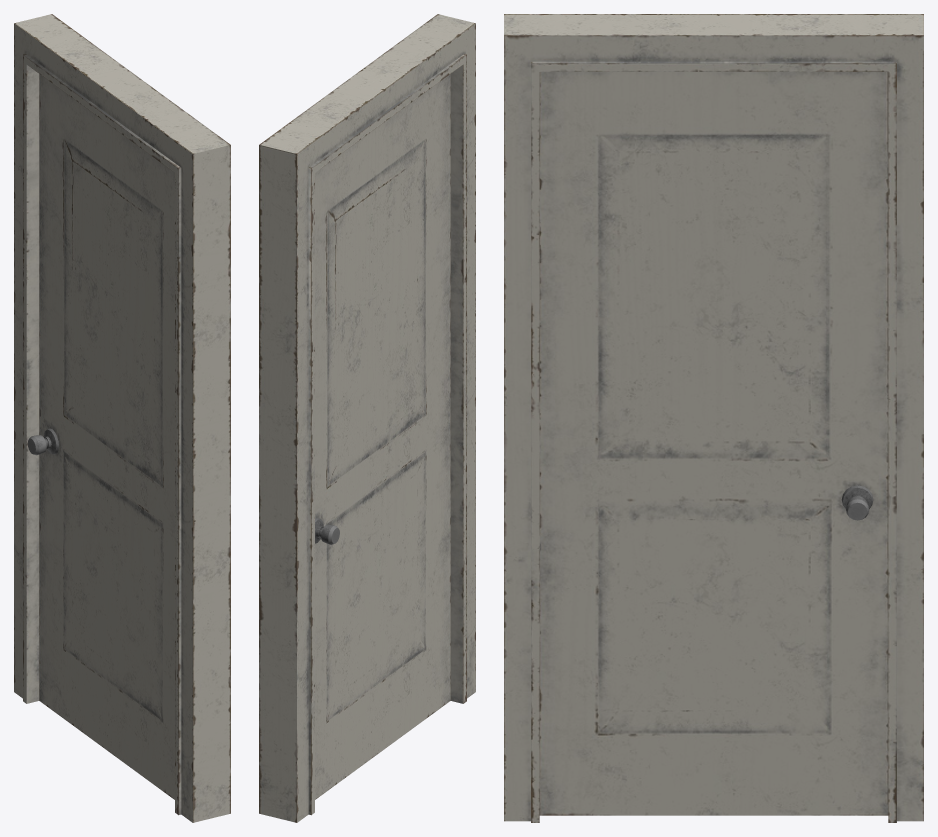
Rendered from door.glb.
The picture shows the model from 3 angles, left to right: view 1: azimuth 30°, elevation 25°; view 2: azimuth 150°, elevation 25°; view 3: azimuth 270°, elevation 25°; orthographic projection. The views are drawn at different scales.
Visible parts, largest first — view 1: Door_low.002; view 2: Door_low.002; view 3: Door_low.002.
Part boxes in pixels (box(x1,y1,x2,y2)): Door_low.002: box(14, 14, 230, 822); Door_low.002: box(259, 14, 475, 822); Door_low.002: box(504, 14, 923, 822).
Size of the model in its own units: 21.48 by 232 by 113.
Materials: 1 (1 with a texture image).
